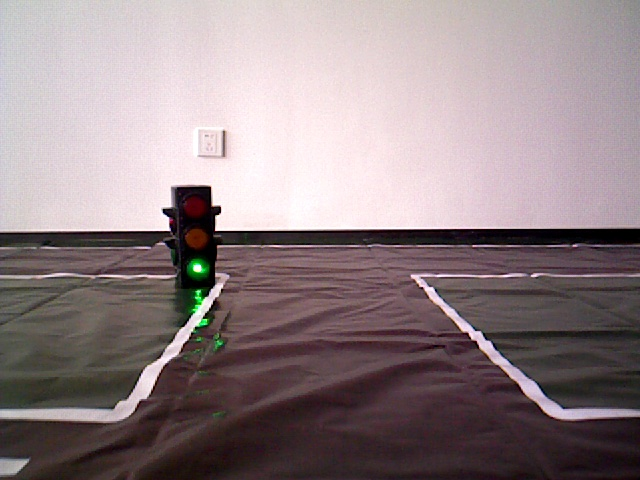green: (172, 188, 215, 288)
